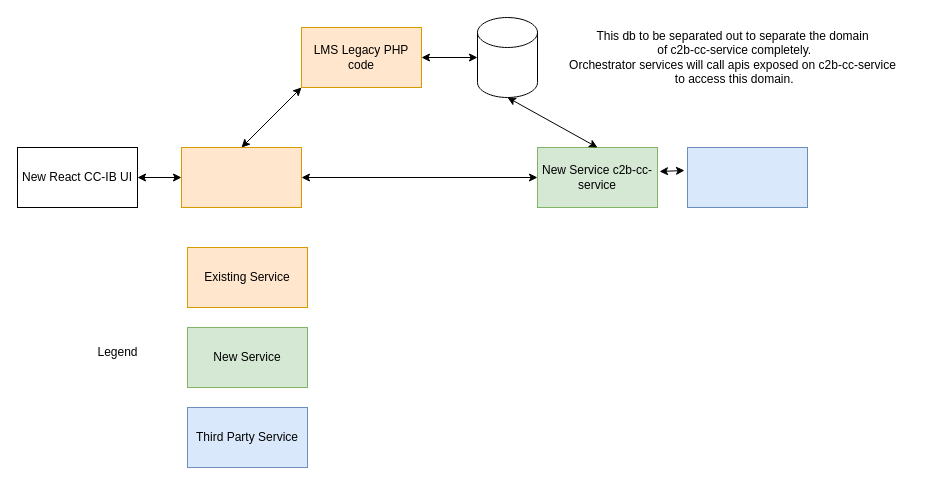
Some shapes in this 925 by 485 pixel diagram are drawn without their labels. The centre of each missing label's shape, as x and y in pixels:
c2b-cc-gateway-service: the point at 241,177
MySql Db: the point at 507,57
Zendesk: the point at 747,177
